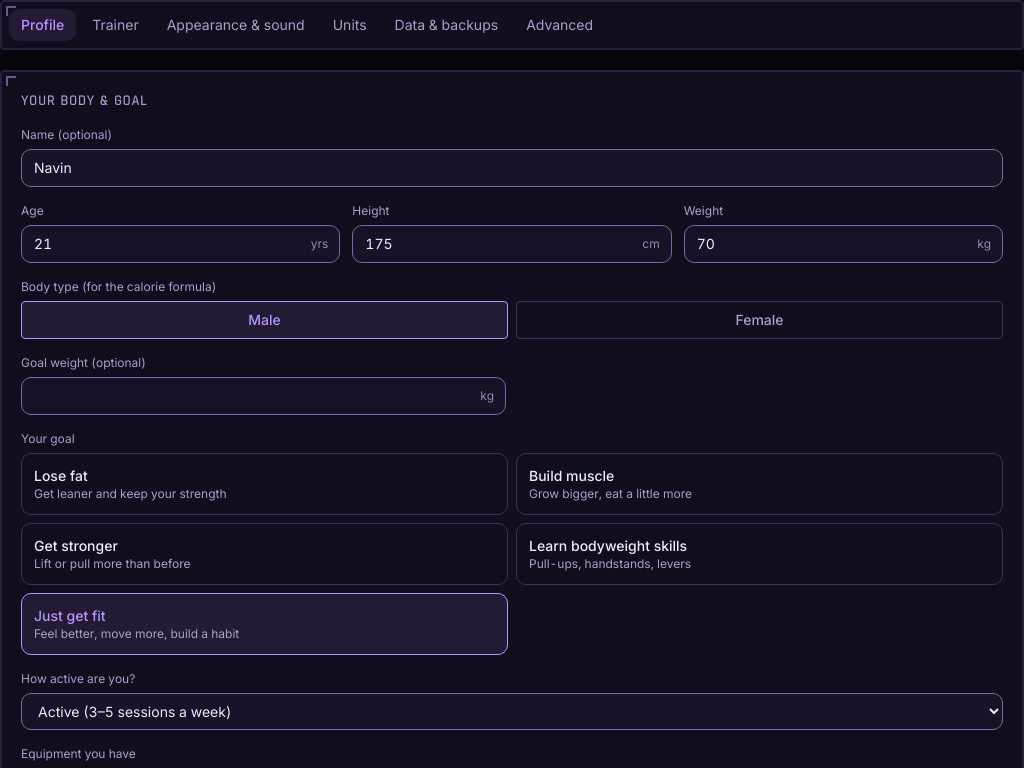
Scenario: SettingsPage › has six sections and shows one at a time
Step 1. Click the button "Units" → click(350, 25), box [321, 9, 379, 41]
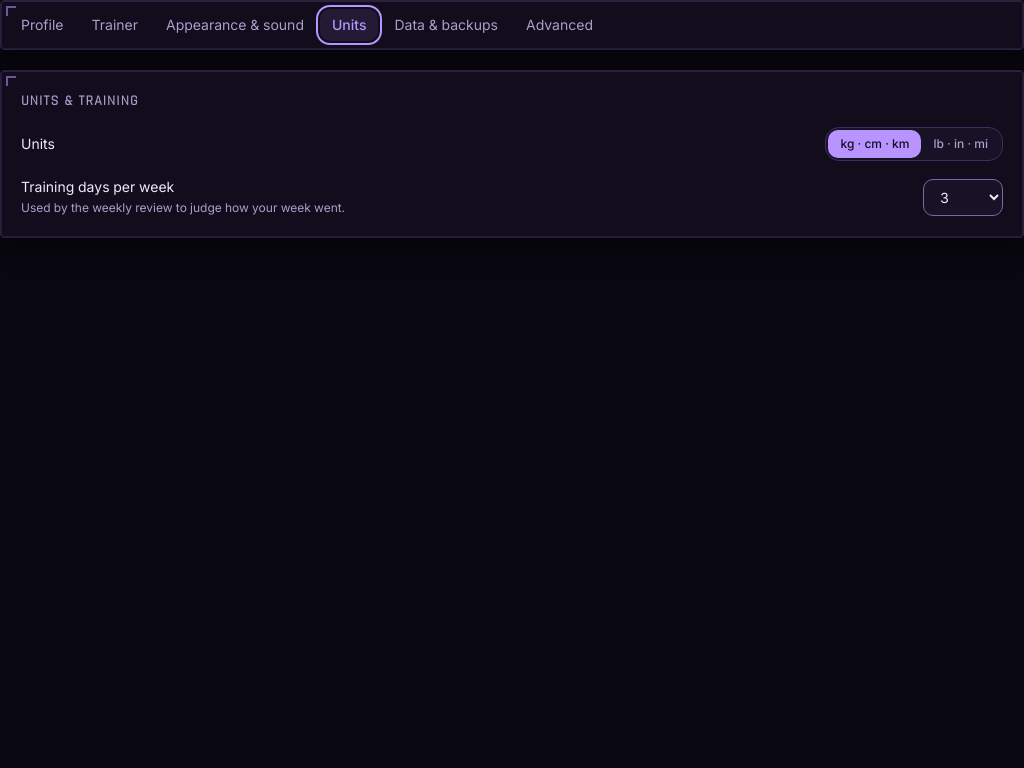
Expected: the element "Units" is shown, [0, 70, 1023, 238]
